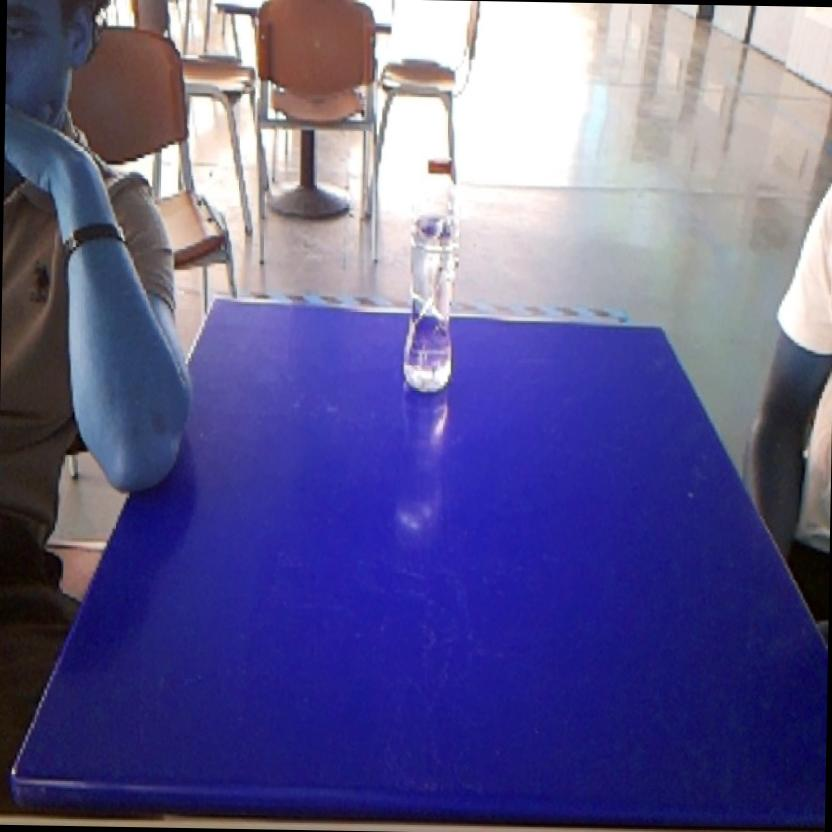no_label: (397, 148, 469, 399)
